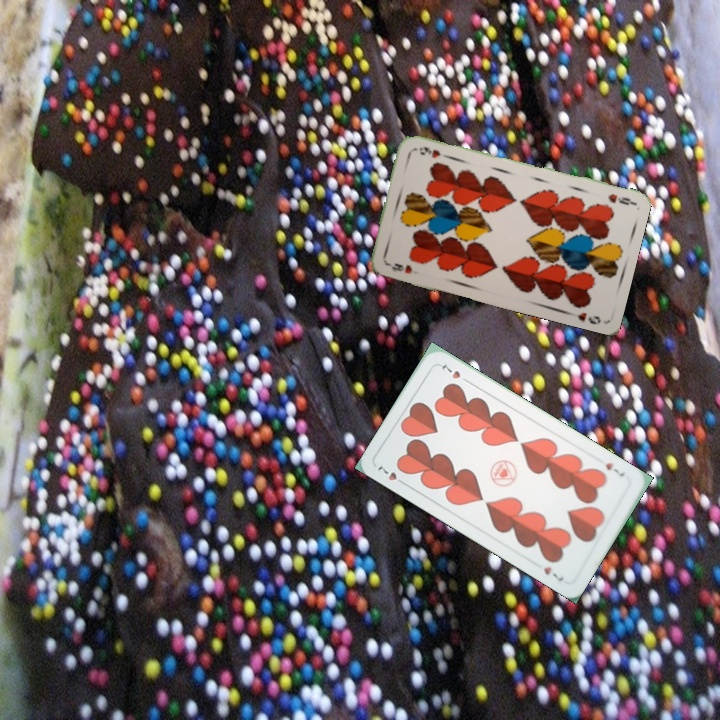H7: (373, 462, 409, 488), (601, 458, 627, 479)
H9: (383, 259, 420, 277), (604, 190, 635, 208)
